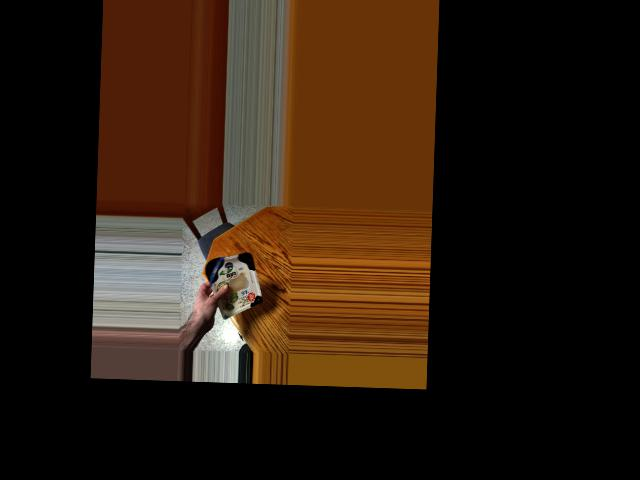cheese: (202, 249, 263, 310)
